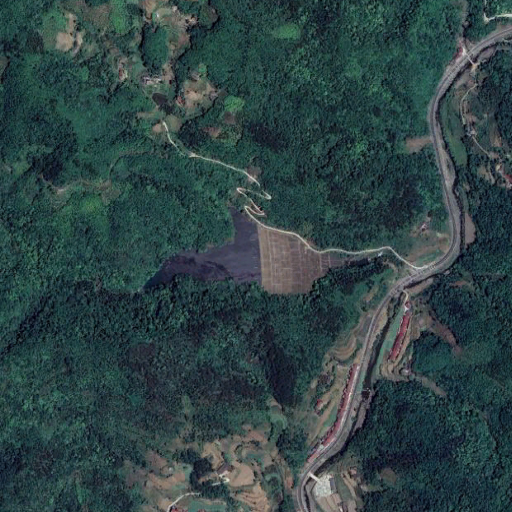tp: (140, 204, 352, 298)
